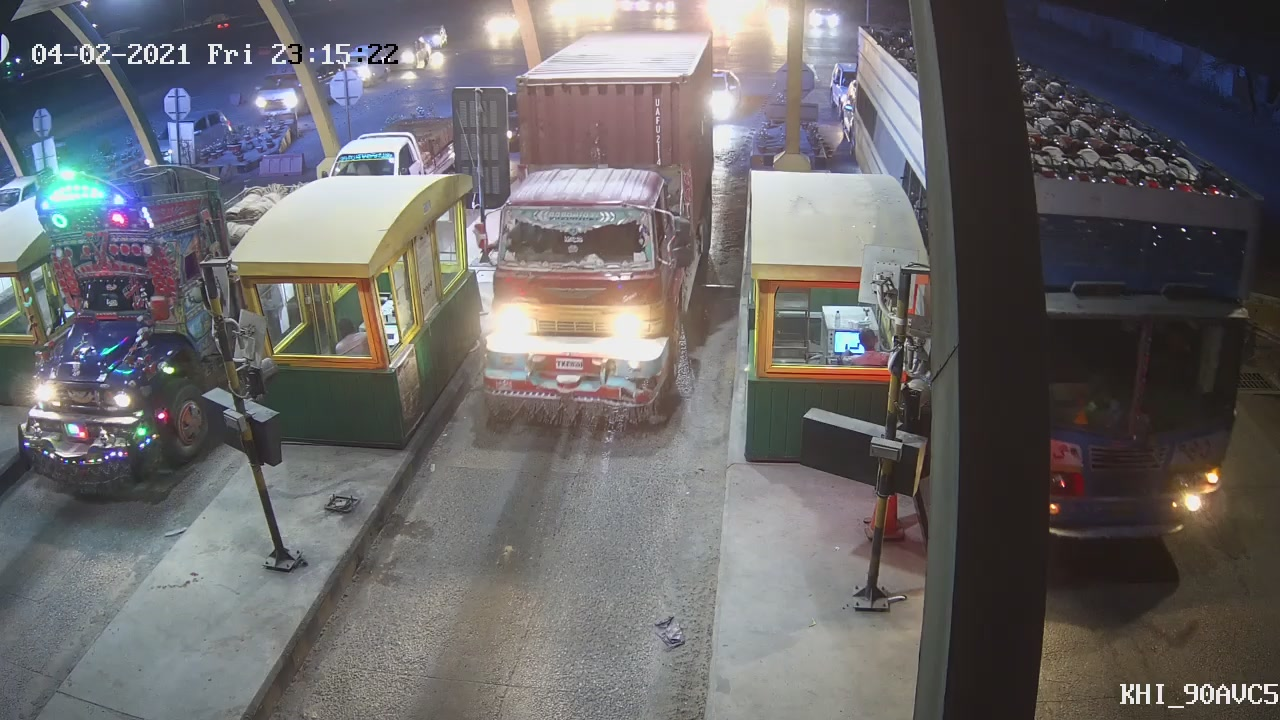F6: (465, 25, 720, 432)
